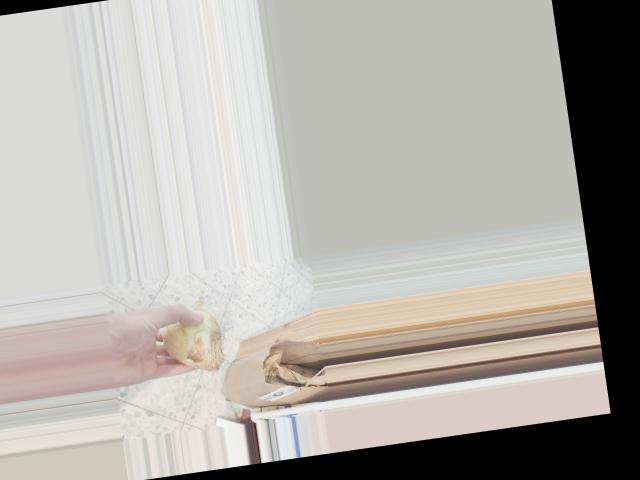onion: (153, 300, 233, 379)
